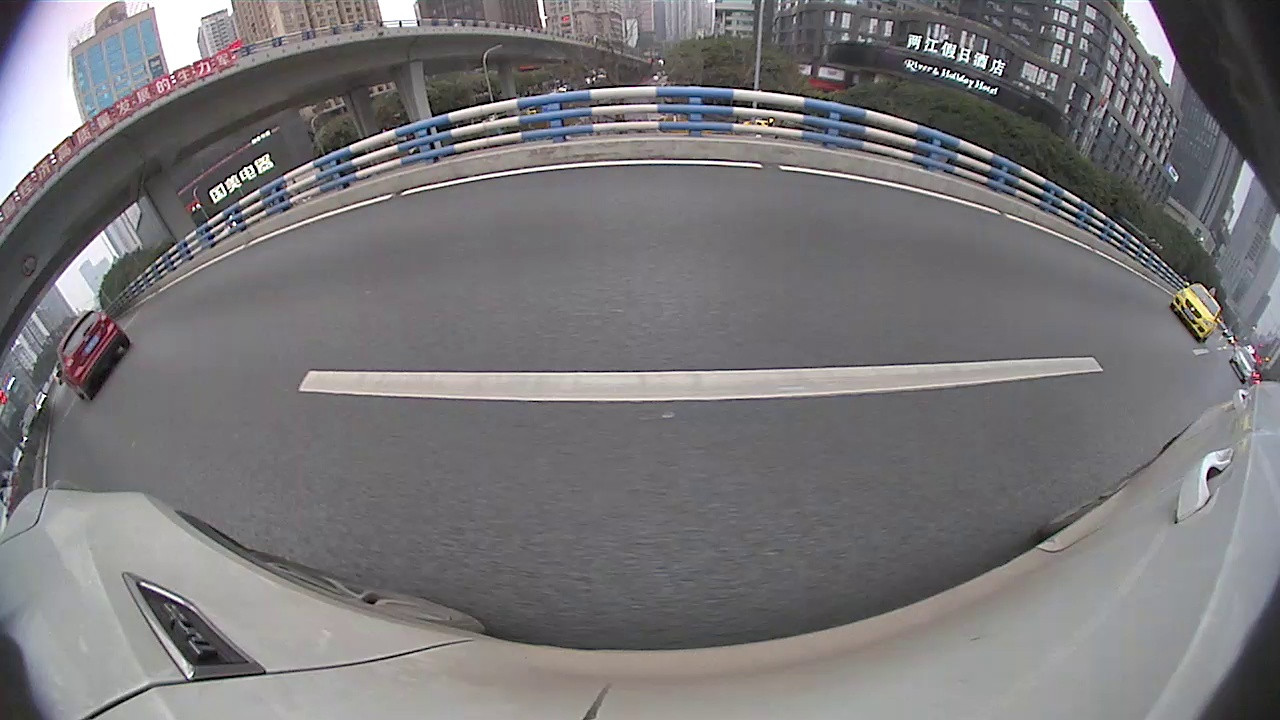car: (57, 311, 131, 400), (1168, 280, 1222, 343)
